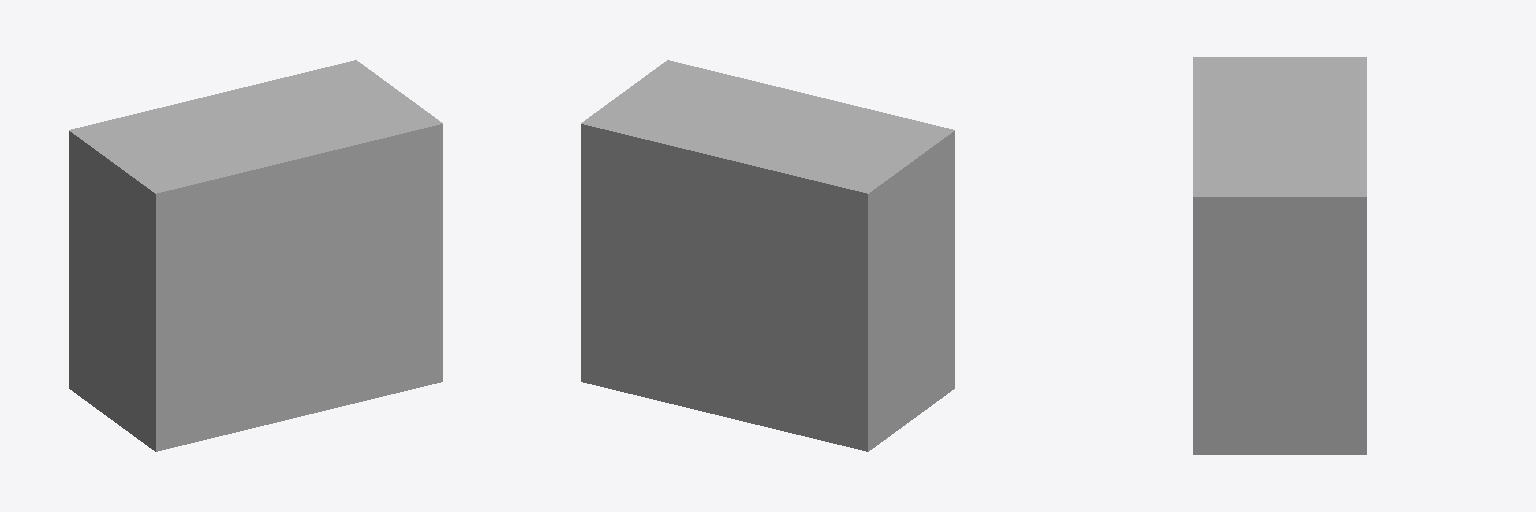
3 renders of one model, left to right at view 1: azimuth 30°, elevation 25°; view 2: azimuth 150°, elevation 25°; view 3: azimuth 270°, elevation 25°, orthographic.
Parts seen in each view (by area): view 1: object 1; view 2: object 1; view 3: object 1.
Part boxes in pixels (x1,y1,x2,y2): object 1: (69, 60, 442, 451); object 1: (581, 60, 954, 451); object 1: (1193, 57, 1366, 454).
Bounding box in the file's own units: 2.1 × 1.8 × 1.1.
Materials: 1 (1 with a texture image).